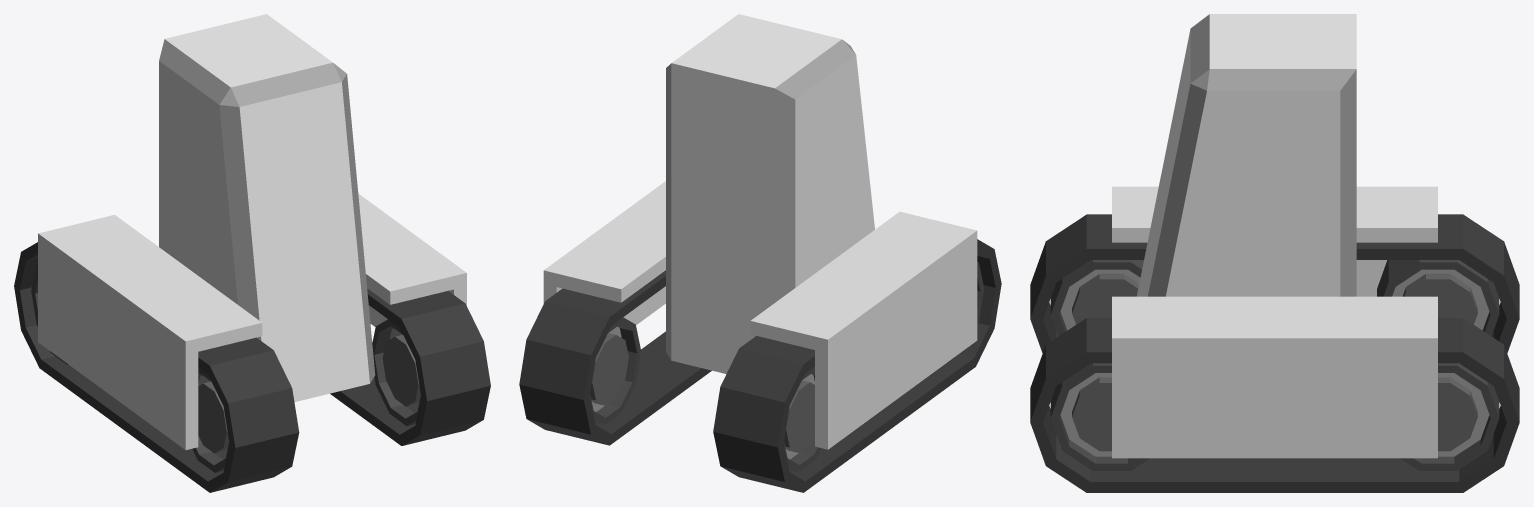
File: enemyBodySG01.obj
3 renders of one model, left to right at view 1: azimuth 30°, elevation 25°; view 2: azimuth 150°, elevation 25°; view 3: azimuth 270°, elevation 25°, orthographic. The views are drawn at different scales.
Parts seen in each view (by area): view 1: 小型近接敵; view 2: 小型近接敵; view 3: 小型近接敵.
Part boxes in pixels (left/top/right/bottom): 小型近接敵: left=14, top=14, right=490, bottom=492; 小型近接敵: left=519, top=14, right=1001, bottom=492; 小型近接敵: left=1030, top=14, right=1519, bottom=492.
Bounding box in the file's own units: 4.4 × 5.17 × 6.
Materials: 1 (1 with a texture image).
